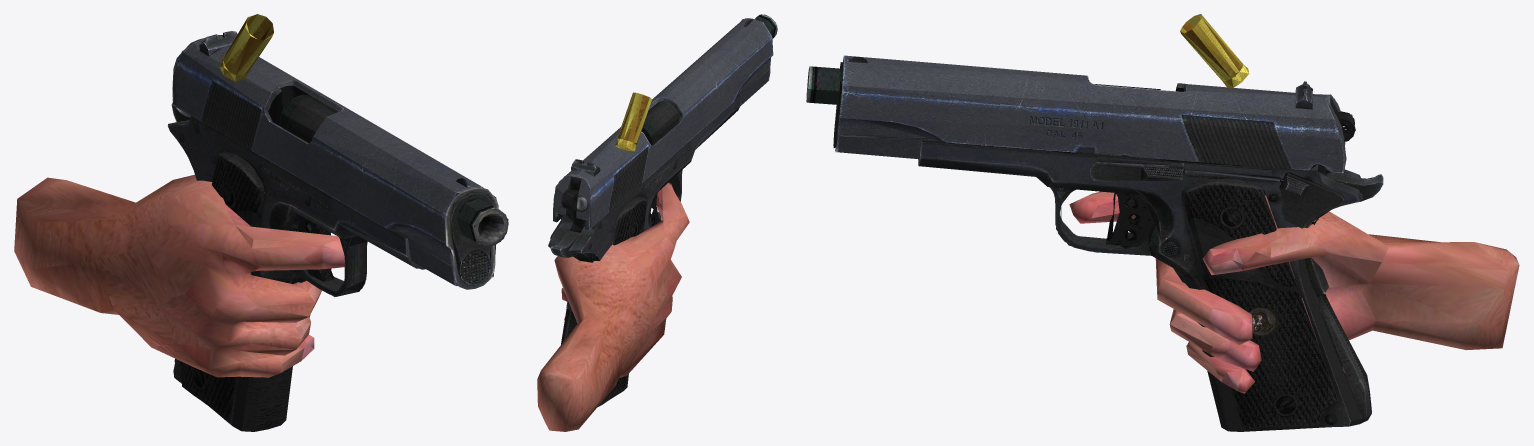
File: Gun_000008.obj
The picture shows the model from 3 angles, left to right: view 1: azimuth 30°, elevation 25°; view 2: azimuth 150°, elevation 25°; view 3: azimuth 270°, elevation 25°; orthographic projection. The views are drawn at different scales.
Parts seen in each view (by area): view 1: ZBrushPolyMesh3D, Slide, Mesh_0008, BulletShell, Trigger; view 2: ZBrushPolyMesh3D, Slide, Mesh_0008, BulletShell, Hammer; view 3: Mesh_0008, Slide, ZBrushPolyMesh3D, BulletShell, Trigger.
Part boxes in pixels (x1,y1,x2,y2): ZBrushPolyMesh3D: (14,174,344,377); Slide: (172,30,498,289); Mesh_0008: (168,94,508,431); BulletShell: (219,14,273,81); Trigger: (297,208,334,282); ZBrushPolyMesh3D: (537,182,689,431); Slide: (553,18,773,229); Mesh_0008: (548,14,777,406); BulletShell: (615,92,652,151); Hammer: (561,189,585,236); Mesh_0008: (806,66,1383,431); Slide: (833,55,1346,173); ZBrushPolyMesh3D: (1069,191,1519,393); BulletShell: (1180,14,1249,88); Trigger: (1106,186,1153,246).
Bounding box in the file's own units: 0.8847 × 2.07 × 3.39.
